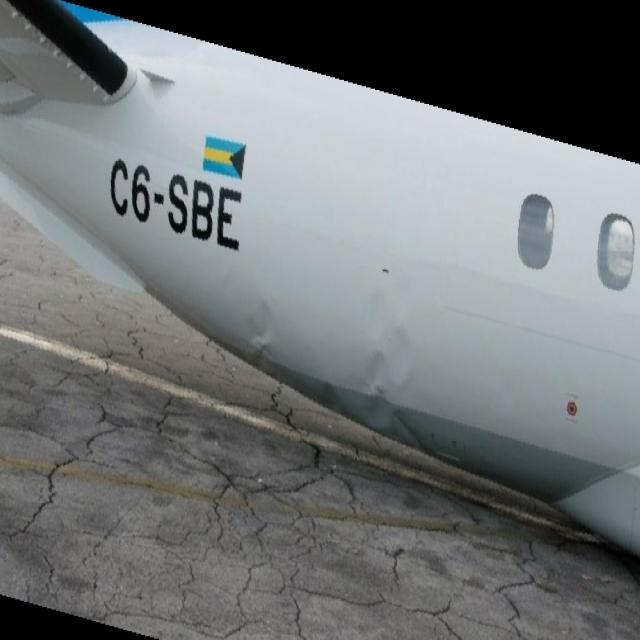dent: (239, 283, 421, 435)
